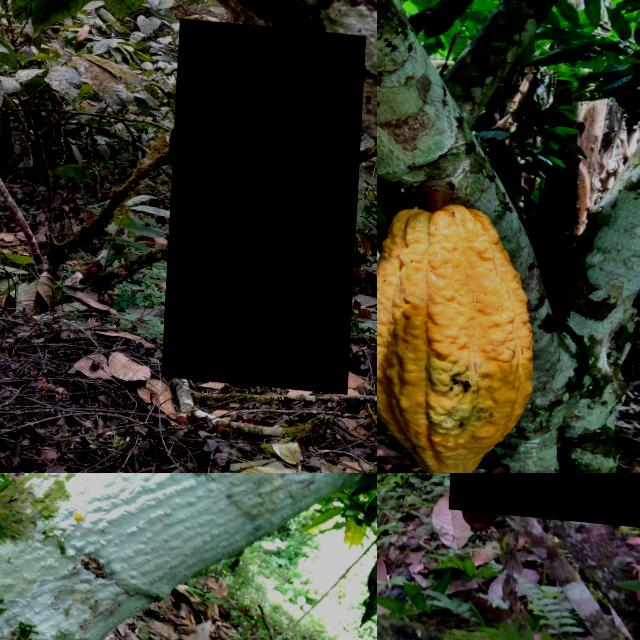Fitoftora: (167, 13, 368, 386), (377, 192, 541, 473)
Sana: (453, 473, 640, 521)
